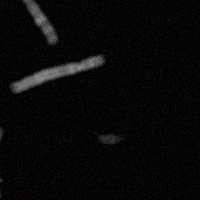chromosome: (10, 55, 103, 93), (0, 0, 58, 44), (97, 131, 120, 146), (0, 127, 5, 177), (0, 177, 2, 200)
